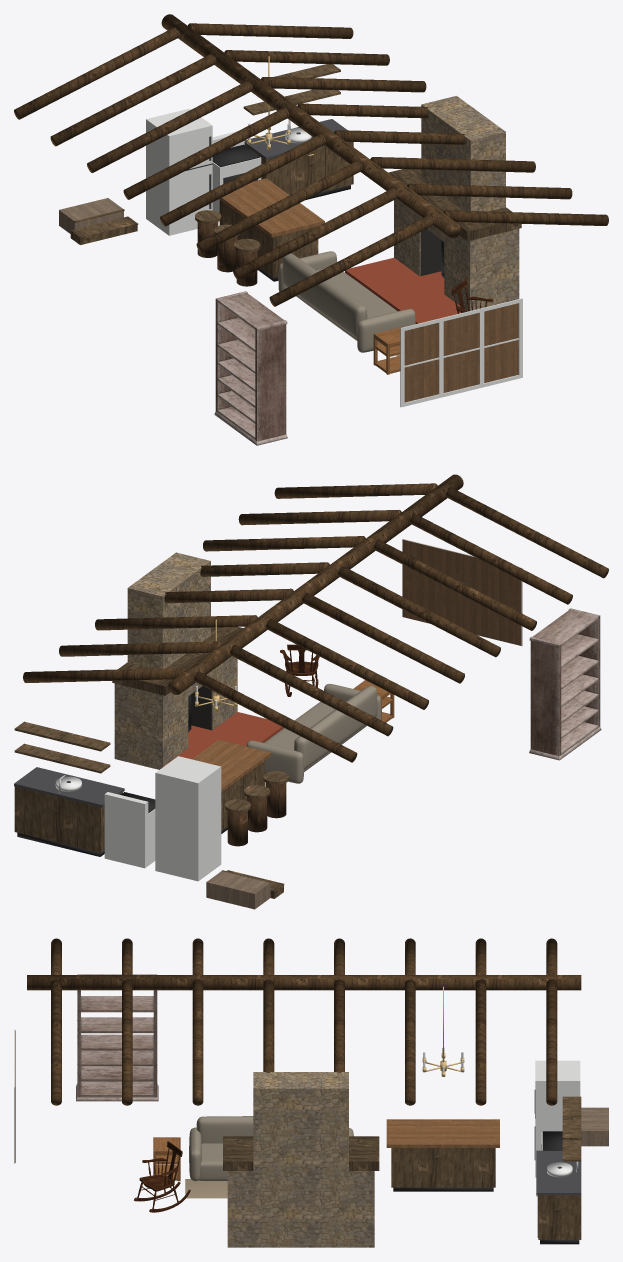
Rendered from main_cabin_interior.glb.
3 views of the same model, one above another, from view 1: azimuth 30°, elevation 25°; view 2: azimuth 150°, elevation 25°; view 3: azimuth 270°, elevation 25° (orthographic). The views are drawn at different scales.
Visible parts, largest first — view 1: V4_INT_MAIN_rafter, V4_INT_MAIN_stone, shelf_unit_worn.001, V4_INT_MAIN_plywood, V4_INT_MAIN_cab, V4_INT_MAIN_white, V4_INT_MAIN_brick, V4_INT_MAIN_trim, V4_INT_MAIN_butcher, MC_Sofa_back, V4_INT_MAIN_door, V4_INT_MAIN_log (+8 smaller); view 2: V4_INT_MAIN_rafter, V4_INT_MAIN_stone, V4_INT_MAIN_white, shelf_unit_worn.001, V4_INT_MAIN_cab, V4_INT_MAIN_plywood, V4_INT_MAIN_brick, MC_Sofa_back, V4_INT_MAIN_log, V4_INT_MAIN_counter, V4_INT_MAIN_butcher, V4_INT_MAIN_lam (+6 smaller); view 3: V4_INT_MAIN_rafter, V4_INT_MAIN_stone, V4_INT_MAIN_cab, shelf_unit_worn.001, V4_INT_MAIN_butcher, V4_INT_MAIN_white, V4_INT_MAIN_door, V4_INT_MAIN_counter, Rockingchair_01.002, MC_Sofa_back, V4_INT_MAIN_black, V4_INT_MAIN_lam (+4 smaller).
Boxes of the visible parts, box(x1,y1,x2,y2) form: V4_INT_MAIN_rafter: box(14, 14, 608, 306); V4_INT_MAIN_stone: box(394, 96, 519, 310); shelf_unit_worn.001: box(214, 291, 287, 445); V4_INT_MAIN_plywood: box(404, 303, 518, 402); V4_INT_MAIN_cab: box(70, 64, 353, 277); V4_INT_MAIN_white: box(146, 108, 261, 235); V4_INT_MAIN_brick: box(345, 257, 465, 323); V4_INT_MAIN_trim: box(248, 123, 522, 407); V4_INT_MAIN_butcher: box(219, 178, 324, 237); MC_Sofa_back: box(282, 253, 367, 337); V4_INT_MAIN_door: box(388, 169, 521, 241); V4_INT_MAIN_log: box(197, 222, 257, 286); V4_INT_MAIN_rafter: box(23, 474, 608, 762); V4_INT_MAIN_stone: box(114, 552, 237, 769); V4_INT_MAIN_white: box(104, 756, 221, 881); shelf_unit_worn.001: box(529, 608, 601, 760); V4_INT_MAIN_cab: box(14, 721, 289, 898); V4_INT_MAIN_plywood: box(402, 539, 521, 645); V4_INT_MAIN_brick: box(163, 712, 283, 766); MC_Sofa_back: box(294, 685, 377, 769); V4_INT_MAIN_log: box(227, 783, 286, 846); V4_INT_MAIN_counter: box(14, 767, 124, 807); V4_INT_MAIN_butcher: box(192, 740, 271, 791); V4_INT_MAIN_lam: box(206, 871, 270, 909); V4_INT_MAIN_rafter: box(27, 938, 581, 1105); V4_INT_MAIN_stone: box(227, 1072, 374, 1247); V4_INT_MAIN_cab: box(391, 1096, 581, 1239); shelf_unit_worn.001: box(76, 974, 158, 1101); V4_INT_MAIN_butcher: box(386, 1119, 499, 1147); V4_INT_MAIN_white: box(535, 1060, 580, 1177); V4_INT_MAIN_door: box(223, 1136, 379, 1170); V4_INT_MAIN_counter: box(536, 1150, 581, 1195); Rockingchair_01.002: box(134, 1141, 190, 1212); MC_Sofa_back: box(196, 1116, 253, 1143); V4_INT_MAIN_black: box(393, 1114, 579, 1244); V4_INT_MAIN_lam: box(581, 1107, 608, 1146).
Size of the model in its own units: 6.32 by 3.57 by 9.87.
25 materials, 13 textured.
